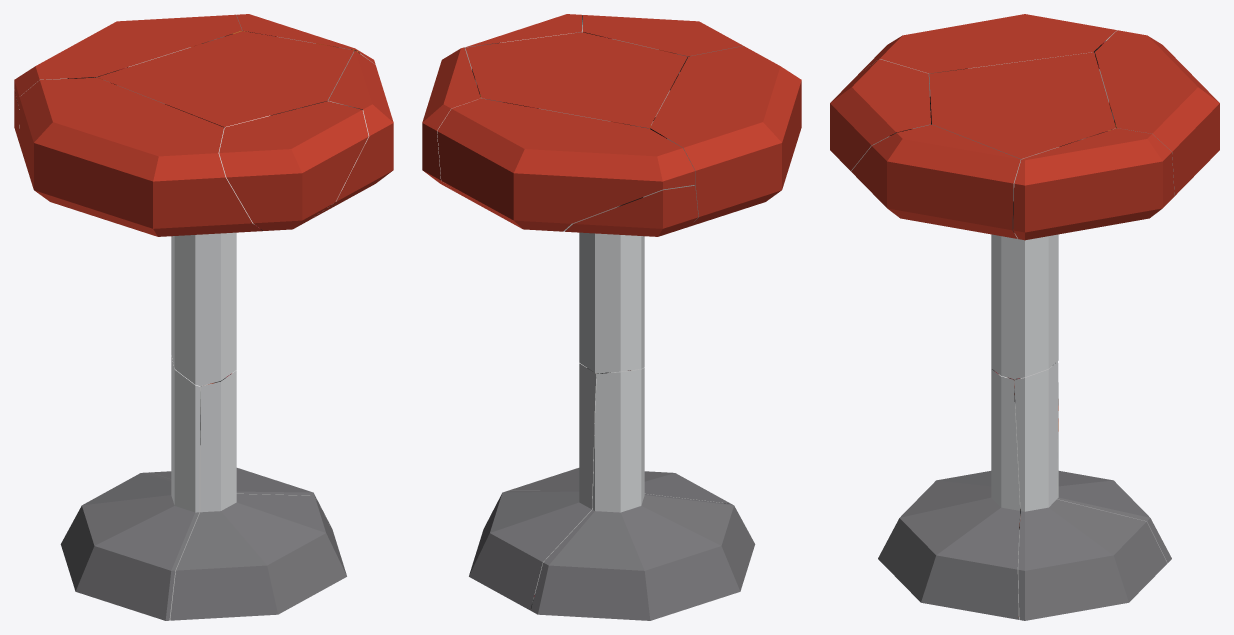
Rendered from stool_DEST.fbx.
3 renders of one model, left to right at view 1: azimuth 30°, elevation 25°; view 2: azimuth 150°, elevation 25°; view 3: azimuth 270°, elevation 25°, orthographic.
Parts seen in each view (by area): view 1: polySurface35_cell.007, polySurface35_cell.001, polySurface35_cell.009, polySurface35_cell.005, polySurface35_cell.002, polySurface35_cell.004, polySurface35_cell.003, polySurface35_cell.006, polySurface35_cell.008; view 2: polySurface35_cell.005, polySurface35_cell.001, polySurface35_cell.004, polySurface35_cell.007, polySurface35_cell.008, polySurface35_cell.002, polySurface35_cell, polySurface35_cell.006, polySurface35_cell.009, polySurface35_cell.003; view 3: polySurface35_cell.001, polySurface35_cell.008, polySurface35_cell.009, polySurface35_cell.006, polySurface35_cell.003, polySurface35_cell.004, polySurface35_cell.007, polySurface35_cell.002, polySurface35_cell.005.
Part boxes in pixels (box(x1,y1,x2,y2)): polySurface35_cell.007: box(19, 77, 262, 236); polySurface35_cell.001: box(97, 31, 354, 386); polySurface35_cell.009: box(170, 370, 346, 620); polySurface35_cell.005: box(60, 355, 200, 620); polySurface35_cell.002: box(219, 101, 368, 230); polySurface35_cell.004: box(14, 14, 242, 110); polySurface35_cell.003: box(310, 50, 393, 219); polySurface35_cell.006: box(236, 14, 375, 64); polySurface35_cell.008: box(150, 468, 332, 530); polySurface35_cell.005: box(530, 367, 755, 620); polySurface35_cell.001: box(465, 32, 687, 373); polySurface35_cell.004: box(437, 98, 695, 231); polySurface35_cell.007: box(650, 46, 801, 226); polySurface35_cell.008: box(469, 363, 599, 610); polySurface35_cell.002: box(582, 15, 743, 56); polySurface35_cell: box(565, 185, 698, 236); polySurface35_cell.006: box(422, 47, 480, 191); polySurface35_cell.009: box(509, 468, 730, 503); polySurface35_cell.003: box(464, 14, 582, 49); polySurface35_cell.001: box(928, 52, 1115, 378); polySurface35_cell.008: box(1014, 361, 1167, 620); polySurface35_cell.009: box(878, 368, 1020, 619); polySurface35_cell.006: box(1013, 128, 1174, 240); polySurface35_cell.003: box(851, 124, 1020, 238); polySurface35_cell.004: box(1094, 30, 1219, 195); polySurface35_cell.007: box(860, 14, 1116, 74); polySurface35_cell.002: box(830, 59, 930, 171); polySurface35_cell.005: box(935, 399, 1171, 563).
Size of the model in its own units: 1.38 by 1.84 by 1.38.
